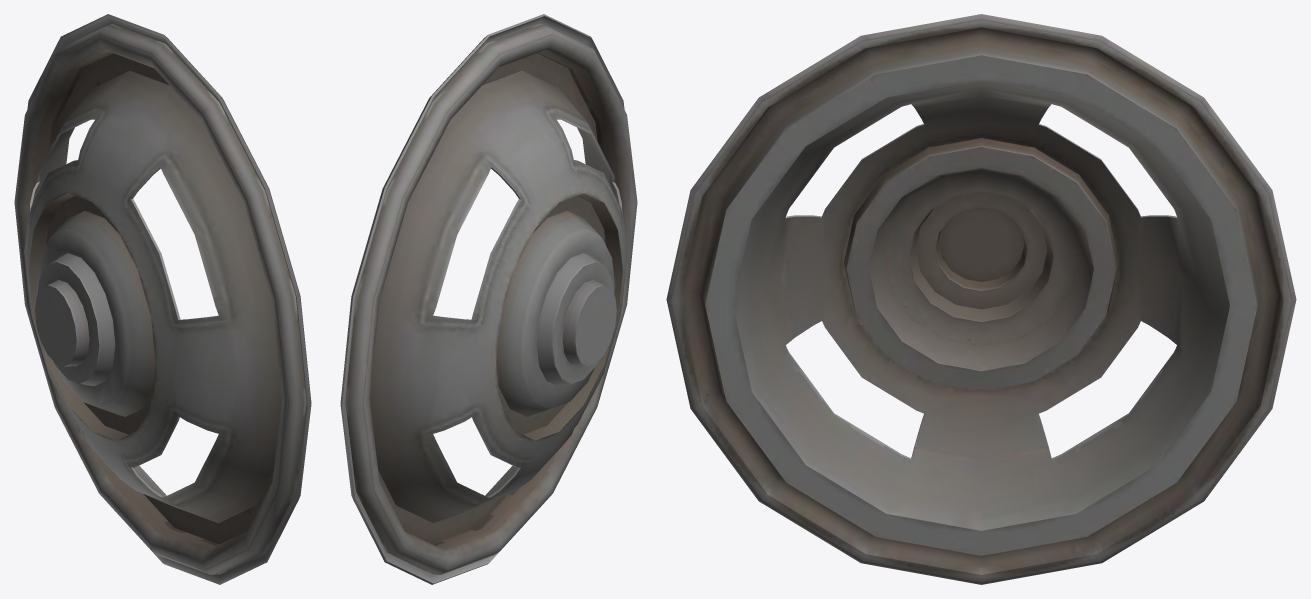
The picture shows the model from 3 angles, left to right: view 1: azimuth 30°, elevation 25°; view 2: azimuth 150°, elevation 25°; view 3: azimuth 270°, elevation 25°; orthographic projection. The views are drawn at different scales.
Parts seen in each view (by area): view 1: body0_model0_lod0_mesh0; view 2: body0_model0_lod0_mesh0; view 3: body0_model0_lod0_mesh0.
Part boxes in pixels (x1=…): body0_model0_lod0_mesh0: x1=14, y1=14, x2=311, y2=584; body0_model0_lod0_mesh0: x1=340, y1=14, x2=637, y2=584; body0_model0_lod0_mesh0: x1=666, y1=14, x2=1296, y2=584.
Bounding box in the file's own units: 8.97 × 37.78 × 37.78.
1 material, 1 textured.
